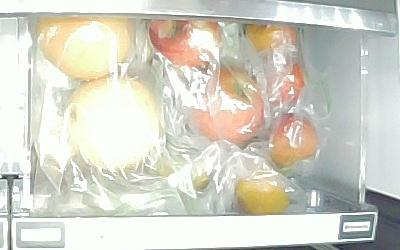apple_vinyl: (188, 63, 265, 145), (148, 16, 222, 69)
grapefruit_vinyl: (66, 78, 166, 169), (37, 17, 135, 79)
persimmon_vinyl: (234, 167, 294, 214)
prune_vinyl: (265, 114, 319, 169), (244, 22, 301, 62), (263, 63, 307, 112)
